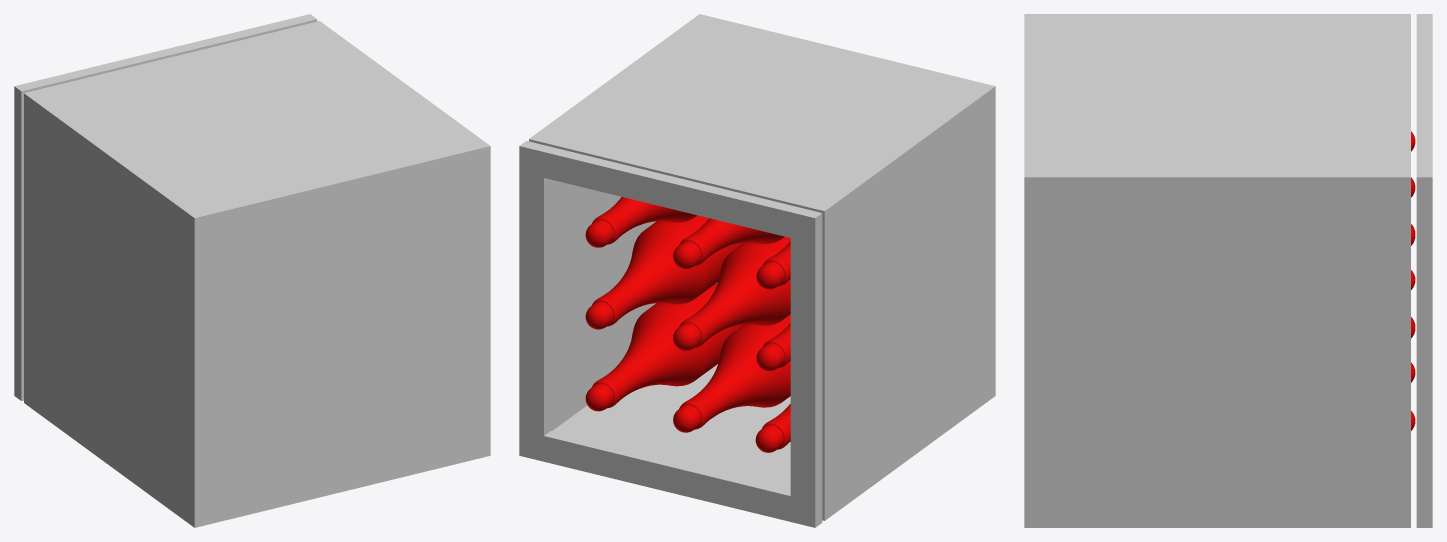
The model's file is refrigerator.glb.
3 views of the same model, side by side, from view 1: azimuth 30°, elevation 25°; view 2: azimuth 150°, elevation 25°; view 3: azimuth 270°, elevation 25° (orthographic). The views are drawn at different scales.
Parts seen in each view (by area): view 1: Mini_Refrigerator_Outter-Mini_Refrigerator_Inner, Mini_Refrigerator_Outter; view 2: Mini_Refrigerator_Outter-Mini_Refrigerator_Inner, Mini_Refrigerator_Outter, Bottle (×9); view 3: Mini_Refrigerator_Outter-Mini_Refrigerator_Inner, Mini_Refrigerator_Outter.
Part boxes in pixels (x1=…): Mini_Refrigerator_Outter-Mini_Refrigerator_Inner: x1=24, y1=21, x2=490, y2=527; Mini_Refrigerator_Outter: x1=14, y1=14, x2=317, y2=400; Mini_Refrigerator_Outter-Mini_Refrigerator_Inner: x1=529, y1=14, x2=995, y2=520; Mini_Refrigerator_Outter: x1=519, y1=141, x2=822, y2=527; Bottle (×9): x1=585, y1=197, x2=790, y2=452; Mini_Refrigerator_Outter-Mini_Refrigerator_Inner: x1=1024, y1=14, x2=1410, y2=527; Mini_Refrigerator_Outter: x1=1416, y1=14, x2=1432, y2=527.
Bounding box in the file's own units: 0.48 × 0.48 × 0.5068.
